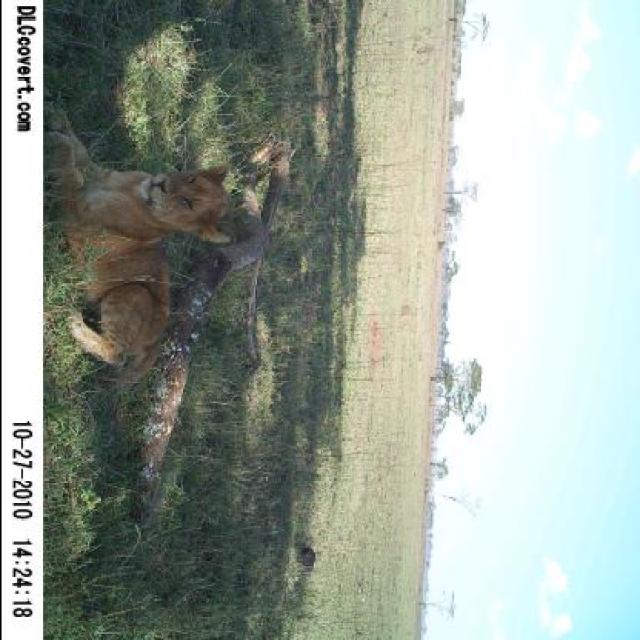Lion: (41, 74, 248, 391)
